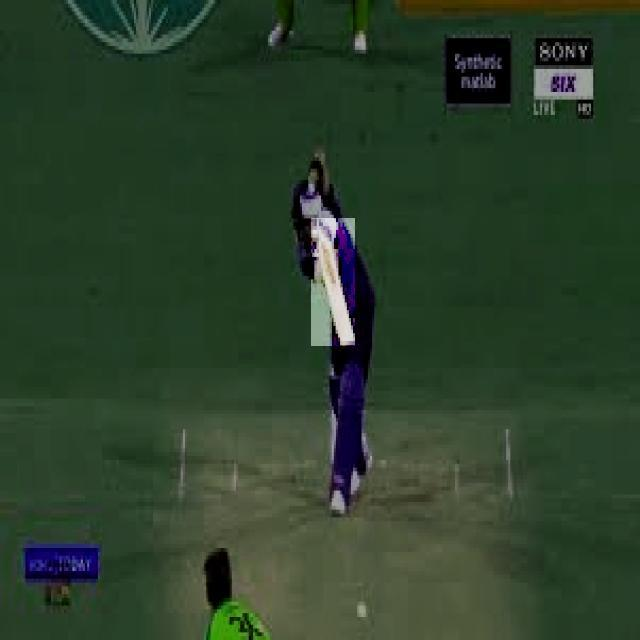bat: (313, 218, 357, 344)
toe: (334, 331, 363, 353)
